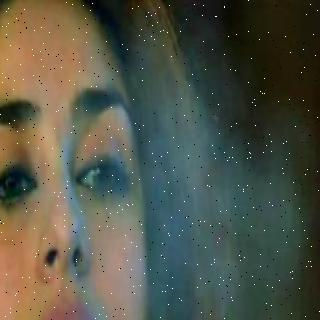smoke: (123, 5, 320, 318)
